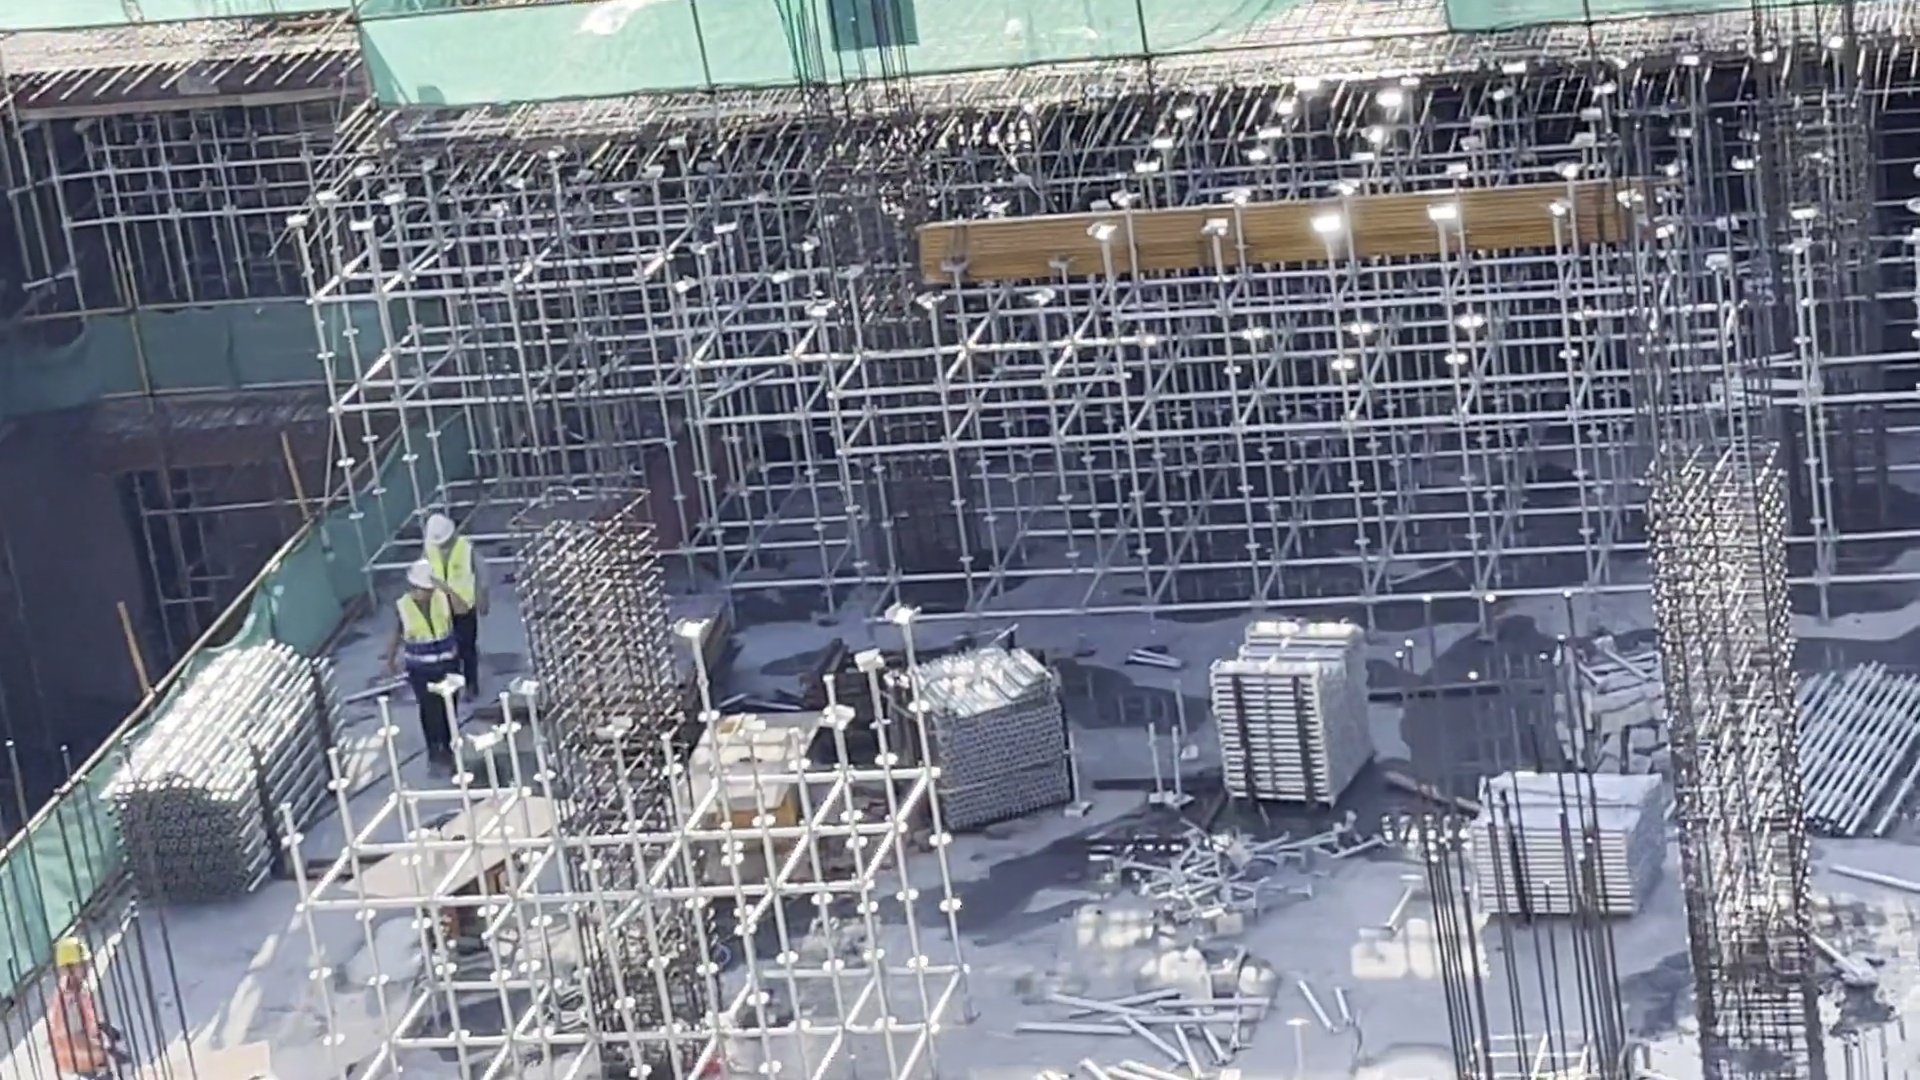helmet: (55, 937, 98, 968), (412, 562, 438, 600), (422, 515, 451, 549)
person: (380, 558, 465, 786), (413, 508, 492, 699), (44, 929, 124, 1080)
scaffold: (97, 642, 361, 901), (1202, 610, 1386, 813), (893, 637, 1077, 833), (1472, 761, 1676, 921), (1756, 649, 1909, 839)
vest: (397, 594, 461, 674), (416, 540, 475, 613)
